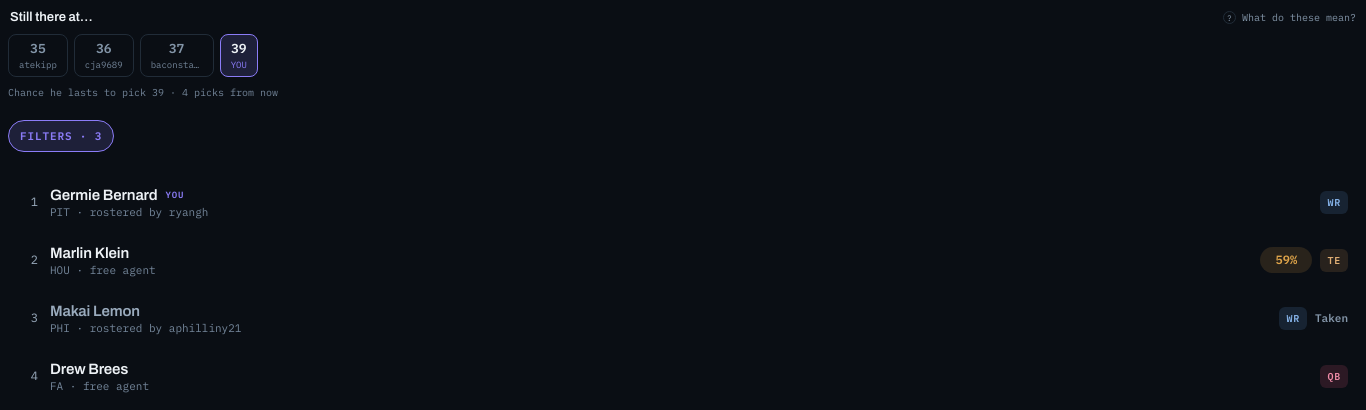
Test: BestAvailable › with availability intel › the pick selector (§3g gap 1) › defaults to my next pick and re-answers the list client-side when another is chosen
Check: the text "59%" is shown, box [1260,247,1312,273]
What coordinates should you click on to do the following:
click the button with aria-label "Analyze pick 37, baconstains"
I would click on:
 (177, 55)
Its box is [140,34,214,76].
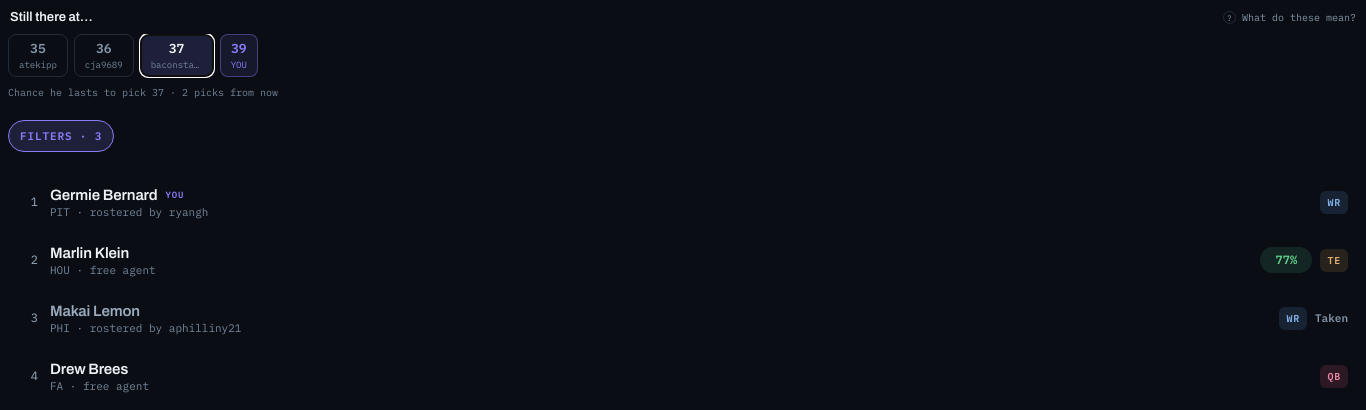
Check: the text "77%" is shown, box [1260,247,1312,273]
Check: the button "59%" is gone
